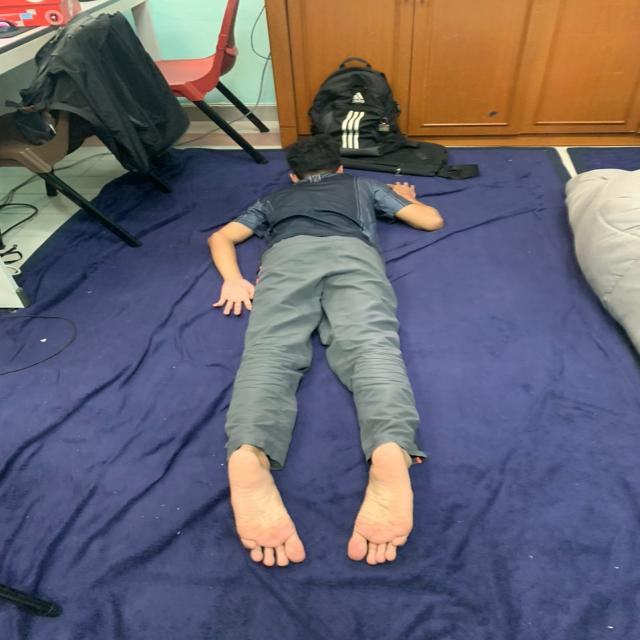Fall-Detected: (202, 138, 444, 569)
